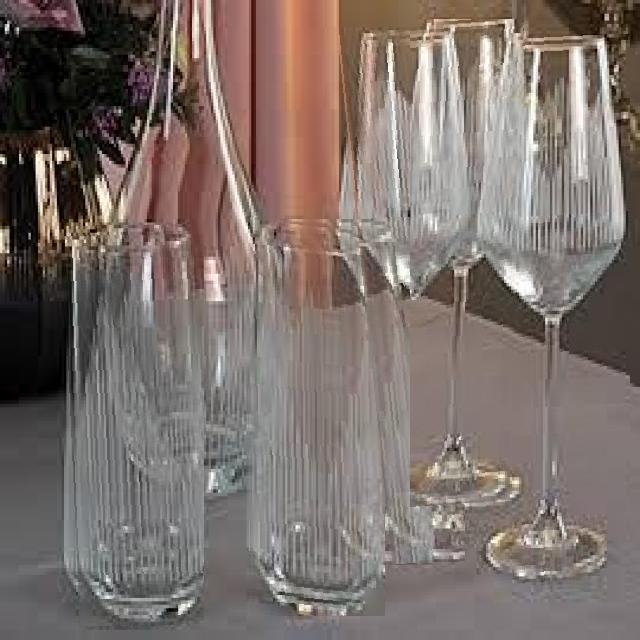Glass: (476, 34, 630, 592), (337, 30, 465, 564), (62, 224, 204, 626), (246, 216, 386, 616), (410, 19, 524, 508)
